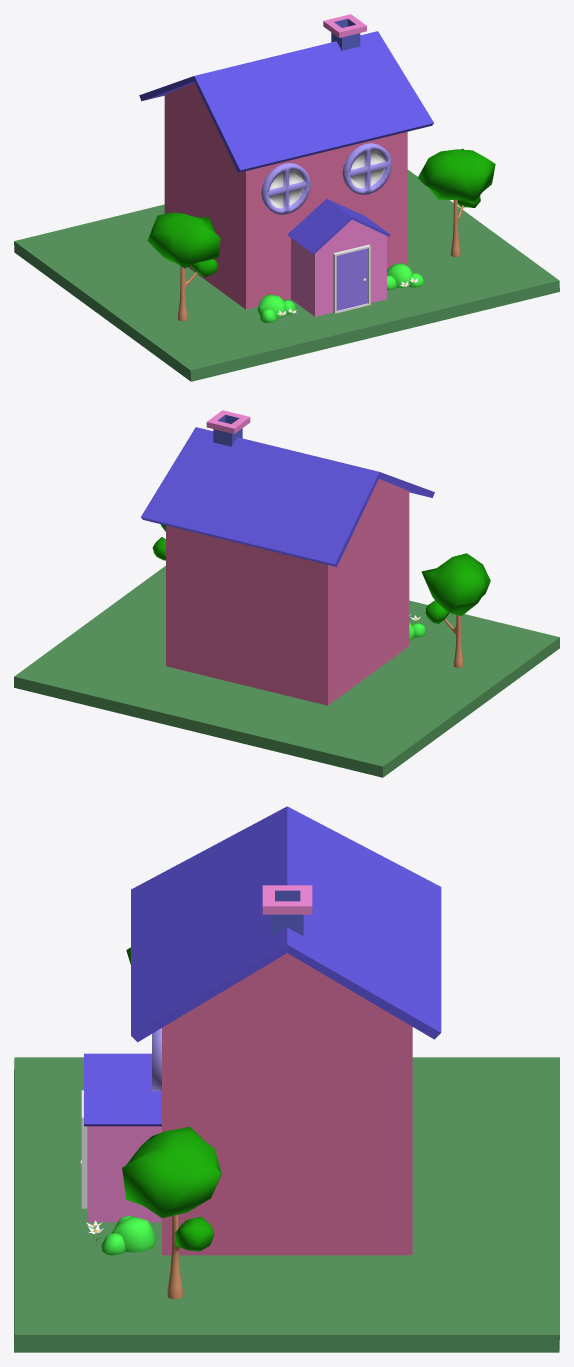
The model's file is house-1.fbx.
3 renders of one model, top to bottom at view 1: azimuth 30°, elevation 25°; view 2: azimuth 150°, elevation 25°; view 3: azimuth 270°, elevation 25°, orthographic. The views are drawn at different scales.
Parts seen in each view (by area): view 1: Plane, Cube, Cube.001, Cube.003, Icosphere.012, Icosphere.010, Cube.005, Cube.004, Cylinder.001, Cylinder.002, Cube.002, Icosphere; view 2: Plane, Cube, Cube.001, Icosphere.010, Cube.002; view 3: Plane, Cube, Cube.001, Icosphere.012, Cube.004, Cube.003, Cube.002, Icosphere.003, Icosphere.013, Cube.007, Cube.005.
Part boxes in pixels (x1,y1,x2,y2): Plane: (14, 169, 559, 381); Cube: (164, 83, 407, 309); Cube.001: (139, 31, 433, 172); Cube.003: (290, 219, 386, 316); Icosphere.012: (417, 148, 495, 201); Icosphere.010: (147, 212, 220, 268); Cube.005: (333, 244, 370, 313); Cube.004: (287, 199, 390, 254); Cylinder.001: (342, 143, 391, 194); Cylinder.002: (261, 163, 310, 214); Cube.002: (323, 14, 366, 50); Icosphere: (257, 294, 287, 318); Plane: (14, 565, 559, 777); Cube: (166, 479, 409, 705); Cube.001: (141, 427, 434, 566); Icosphere.010: (421, 553, 490, 616); Cube.002: (206, 410, 250, 446); Plane: (14, 1057, 559, 1352); Cube: (162, 953, 412, 1255); Cube.001: (131, 806, 441, 1042); Icosphere.012: (122, 1127, 221, 1217); Cube.004: (84, 1053, 161, 1126); Cube.003: (87, 1126, 161, 1222); Cube.002: (262, 885, 312, 935); Icosphere.003: (111, 1216, 156, 1252); Icosphere.013: (175, 1216, 214, 1251); Cube.007: (167, 1215, 183, 1299); Cube.005: (80, 1090, 87, 1208).
Bounding box in the file's own units: 2949 × 1790 × 2448.
